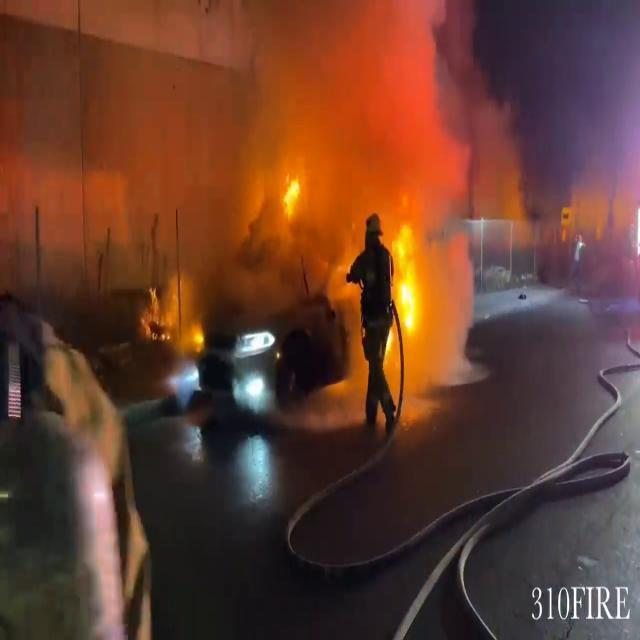Fire: (390, 222, 420, 341), (280, 165, 304, 219)
Smoke: (243, 0, 522, 246)
